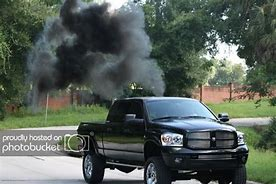smoke: (26, 1, 166, 97)
